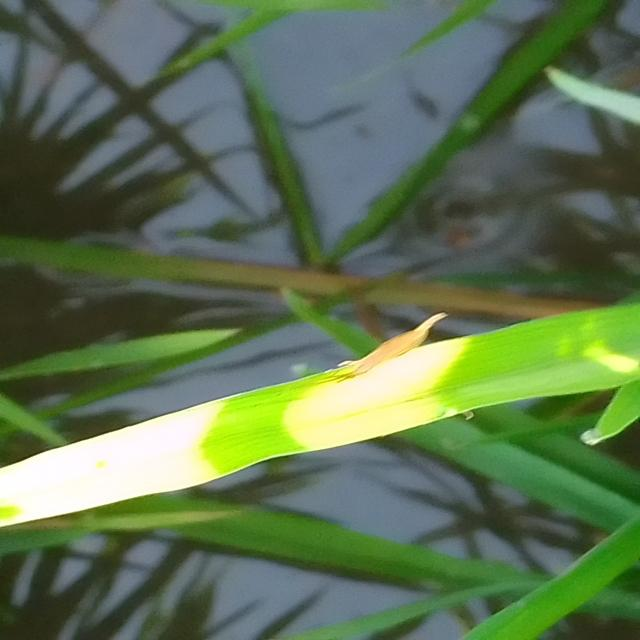Brown spot: (0, 296, 523, 558)
